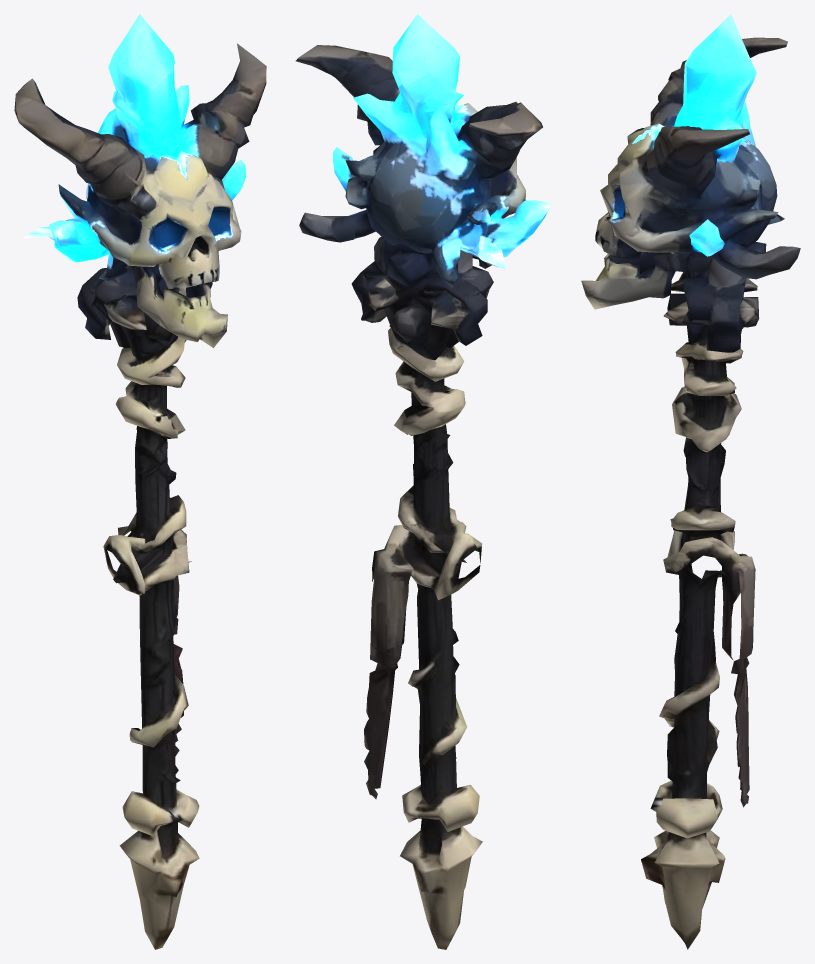
The model's file is Lich_Staff-Dg8gPJHf.glb.
3 renders of one model, left to right at view 1: azimuth 30°, elevation 25°; view 2: azimuth 150°, elevation 25°; view 3: azimuth 270°, elevation 25°, orthographic. The views are drawn at different scales.
Visible parts, largest first — view 1: Lich_Staff; view 2: Lich_Staff; view 3: Lich_Staff.
Boxes of the visible parts, left/top/right/bottom form: Lich_Staff: left=14, top=14, right=266, bottom=949; Lich_Staff: left=295, top=14, right=552, bottom=949; Lich_Staff: left=581, top=14, right=800, bottom=949.
Size of the model in its own units: 0.5774 by 2.2 by 0.4682.
Materials: 1 (1 with a texture image).
